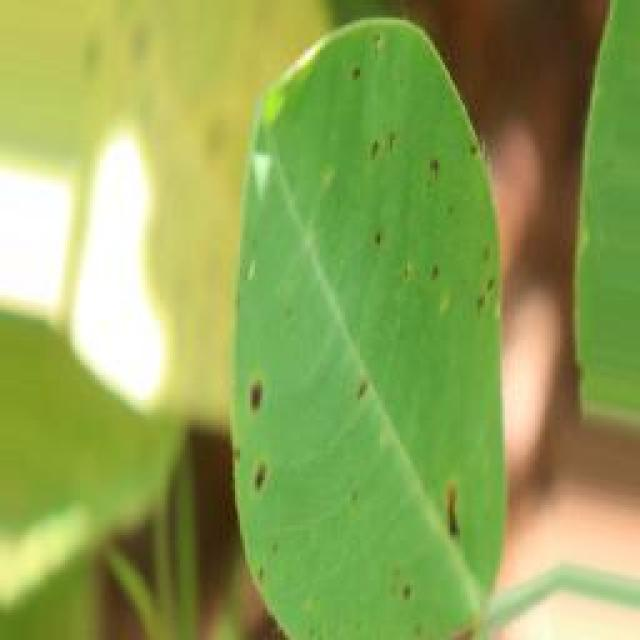Sigatoka: (412, 234, 504, 316), (231, 370, 285, 504), (360, 102, 414, 190), (337, 30, 396, 106), (443, 481, 484, 552), (417, 144, 461, 208), (342, 373, 384, 433), (363, 213, 406, 271), (393, 564, 424, 634)
